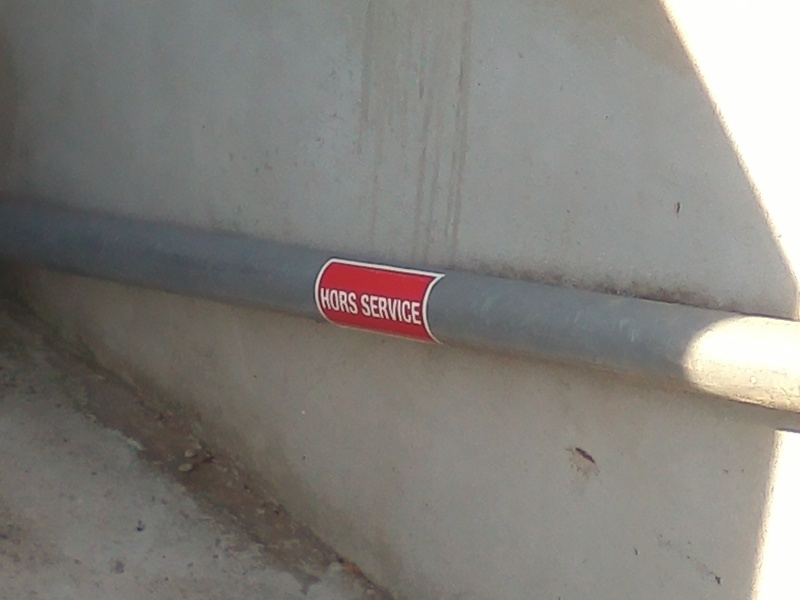text: (369, 293, 384, 326), (385, 293, 400, 326), (401, 293, 416, 326), (321, 287, 336, 316), (337, 287, 352, 316), (361, 293, 368, 326), (353, 287, 360, 316), (417, 293, 422, 326)
